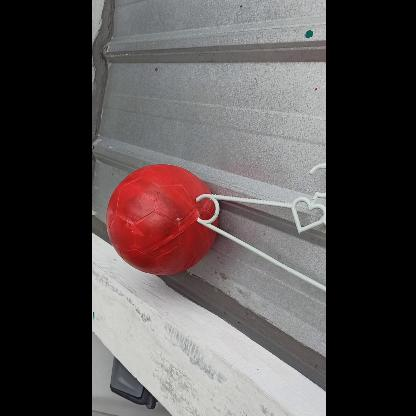red_ball: (104, 163, 216, 275)
